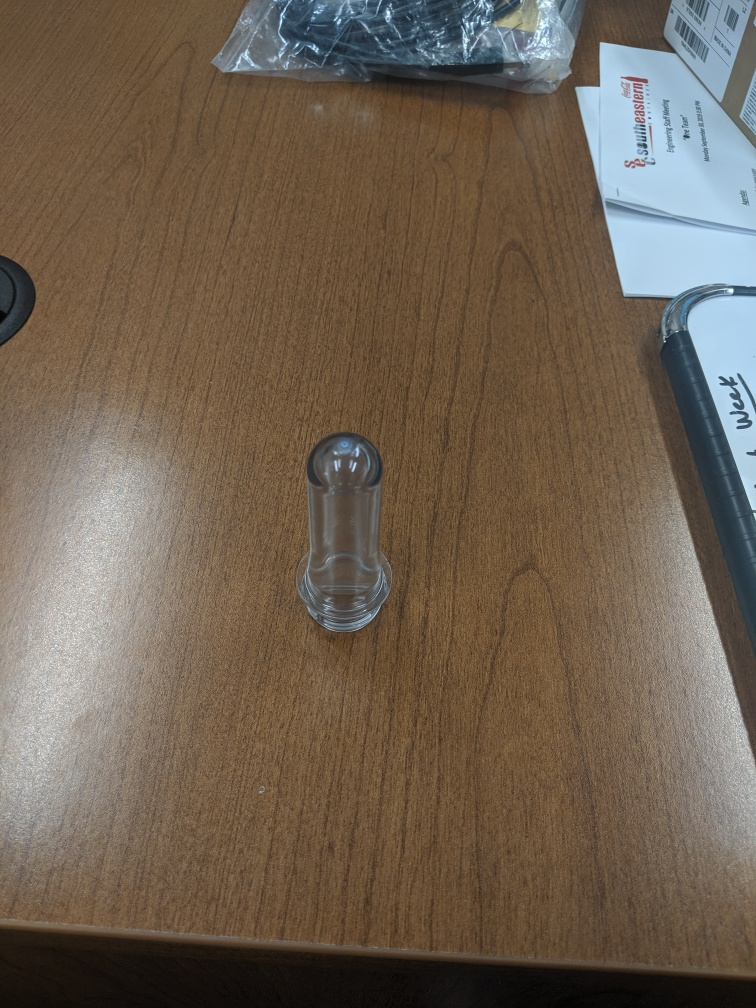preform: (289, 424, 398, 644)
